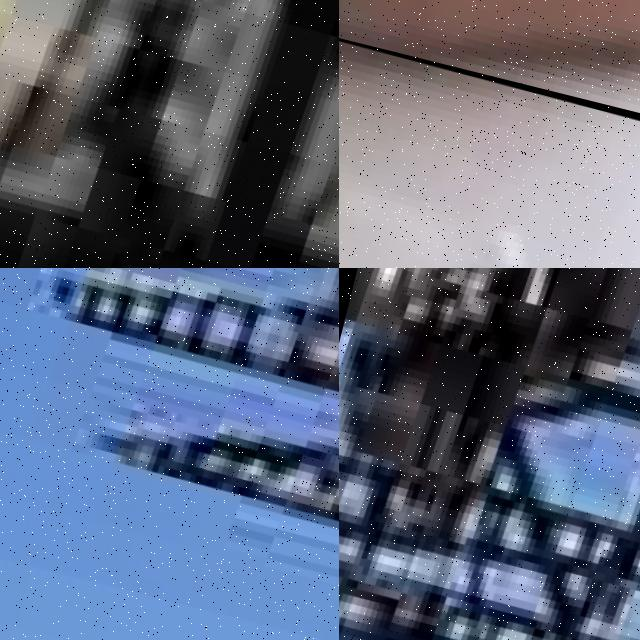0: (0, 268, 339, 640), (339, 268, 640, 640), (0, 0, 339, 268)
drone: (339, 0, 640, 268)
